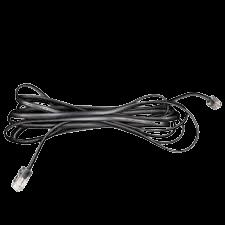cable: (2, 83, 222, 194)
